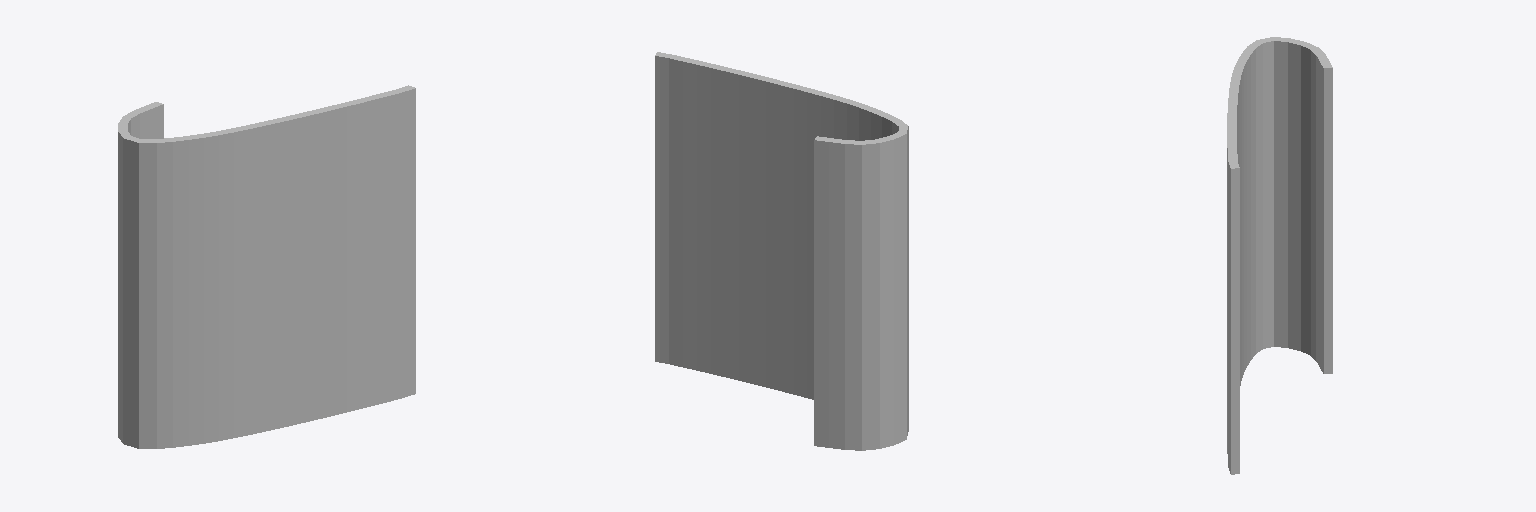
The model's file is SimpleFold3.obj.
3 views of the same model, side by side, from view 1: azimuth 30°, elevation 25°; view 2: azimuth 150°, elevation 25°; view 3: azimuth 270°, elevation 25° (orthographic).
Visible parts, largest first — view 1: Cube_Cube.001; view 2: Cube_Cube.001; view 3: Cube_Cube.001.
Part boxes in pixels (bbox=[...]): Cube_Cube.001: bbox=[118, 85, 415, 448]; Cube_Cube.001: bbox=[655, 52, 908, 450]; Cube_Cube.001: bbox=[1227, 37, 1332, 474].
Size of the model in its own units: 4.41 by 4.75 by 1.49.